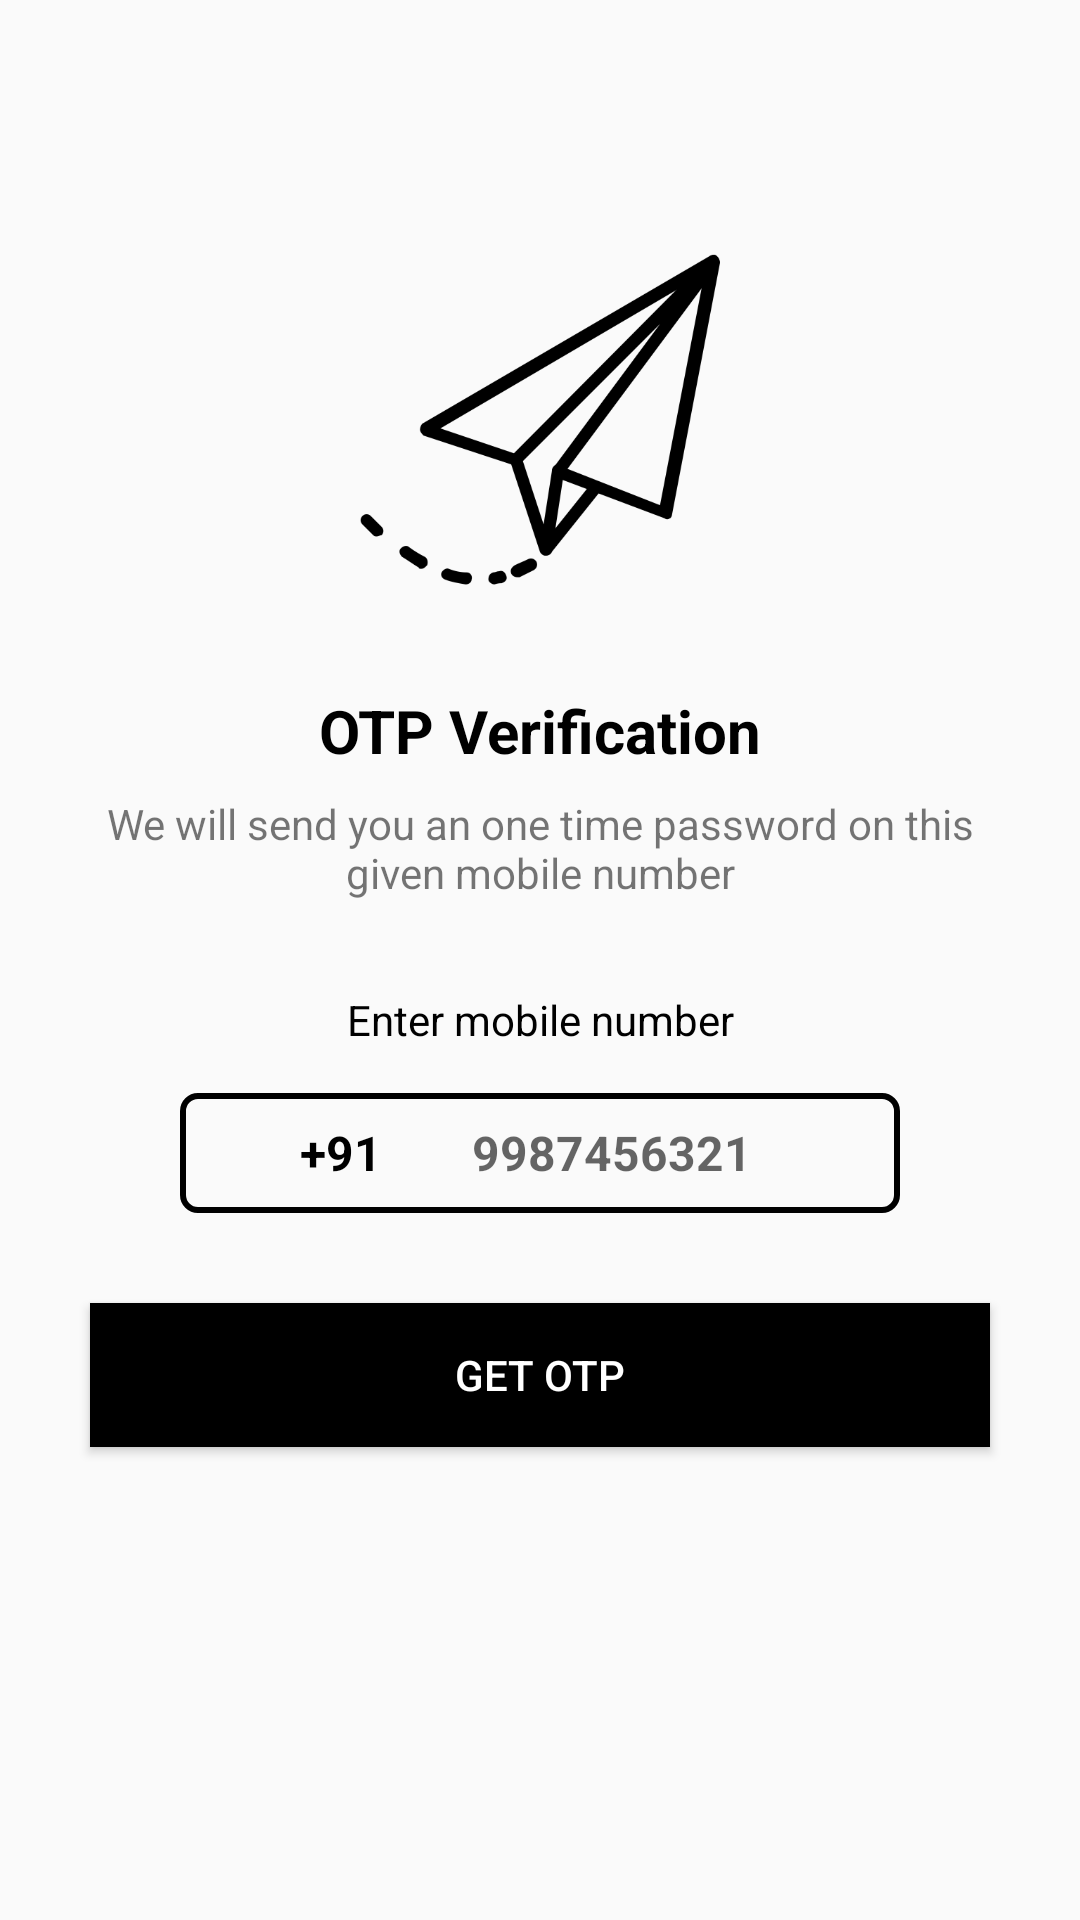

Where icons sit on this 1080px x 1920px app screen, as (x1=x1, y1=y1, x2=x2, y2=y2):
send mail: (x1=360, y1=254, x2=720, y2=585)
